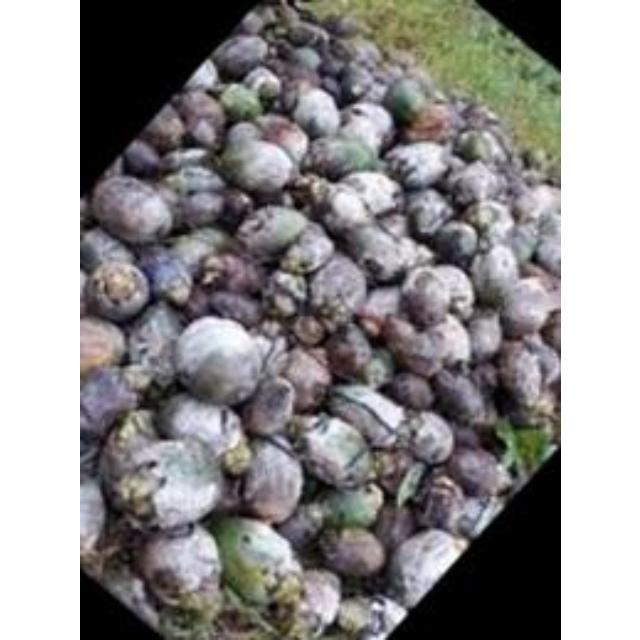damaged: (106, 436, 222, 530), (135, 522, 223, 606), (384, 528, 464, 610), (296, 414, 378, 488), (154, 392, 244, 458), (90, 174, 170, 246), (234, 438, 304, 520), (215, 130, 297, 197), (327, 384, 407, 448), (384, 313, 464, 377), (339, 222, 418, 284), (398, 263, 472, 325), (80, 366, 140, 442), (158, 162, 228, 226), (234, 204, 310, 262), (82, 258, 150, 322), (496, 341, 554, 414), (126, 306, 184, 376), (275, 348, 333, 412), (395, 408, 455, 466), (498, 276, 556, 336), (317, 526, 385, 576), (429, 368, 485, 428), (468, 246, 522, 308), (134, 248, 192, 304), (443, 444, 503, 498), (241, 378, 295, 438), (384, 141, 451, 189), (293, 570, 343, 634), (322, 322, 376, 381), (312, 485, 383, 529), (307, 134, 377, 178), (202, 251, 266, 299), (415, 472, 467, 530), (210, 32, 270, 78), (174, 89, 226, 141), (337, 103, 393, 151), (338, 172, 399, 216), (402, 188, 453, 240), (168, 228, 226, 272), (255, 116, 308, 164), (319, 184, 373, 230), (446, 160, 502, 203), (290, 88, 340, 136), (371, 504, 415, 556), (449, 494, 497, 540), (264, 268, 310, 316), (138, 106, 185, 152), (430, 219, 478, 263), (374, 448, 418, 496), (204, 290, 262, 326), (452, 127, 506, 165), (509, 182, 557, 224), (464, 200, 514, 240), (386, 372, 434, 412), (465, 315, 503, 361), (336, 62, 374, 105), (121, 139, 163, 177), (507, 223, 541, 264), (242, 65, 282, 99), (180, 285, 216, 321), (533, 232, 561, 278), (291, 313, 327, 347), (470, 362, 500, 400), (344, 37, 382, 67), (378, 208, 408, 242), (288, 46, 322, 72), (356, 315, 384, 341)
